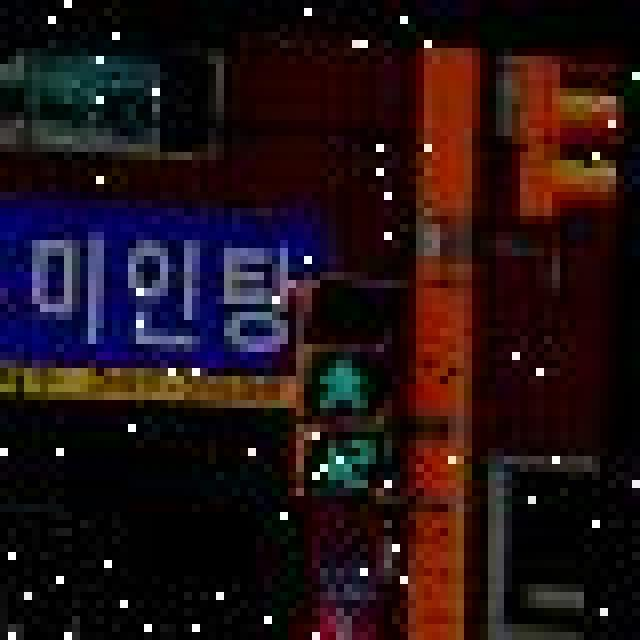greenlight: (296, 256, 400, 432)
